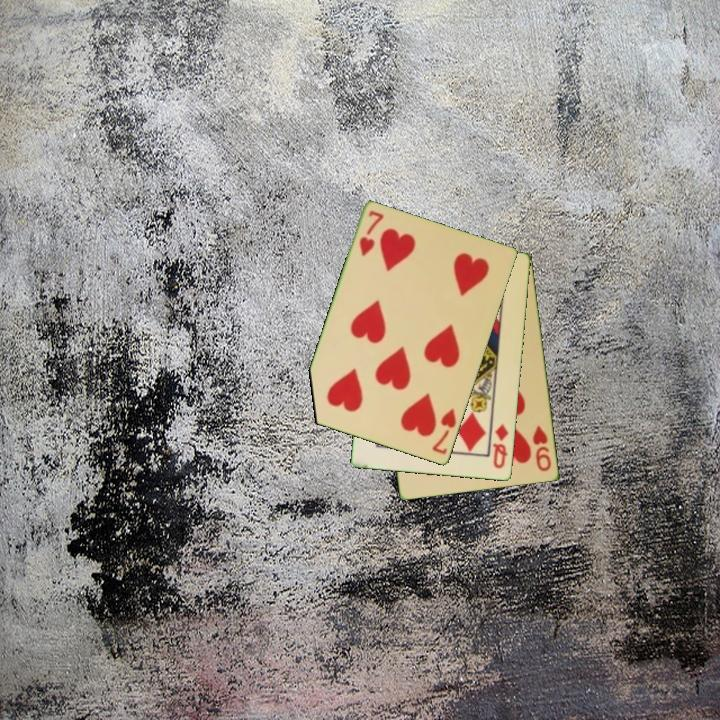7h: (356, 207, 387, 260), (429, 405, 459, 458)
9h: (529, 422, 554, 475)
Qd: (490, 420, 511, 472)
